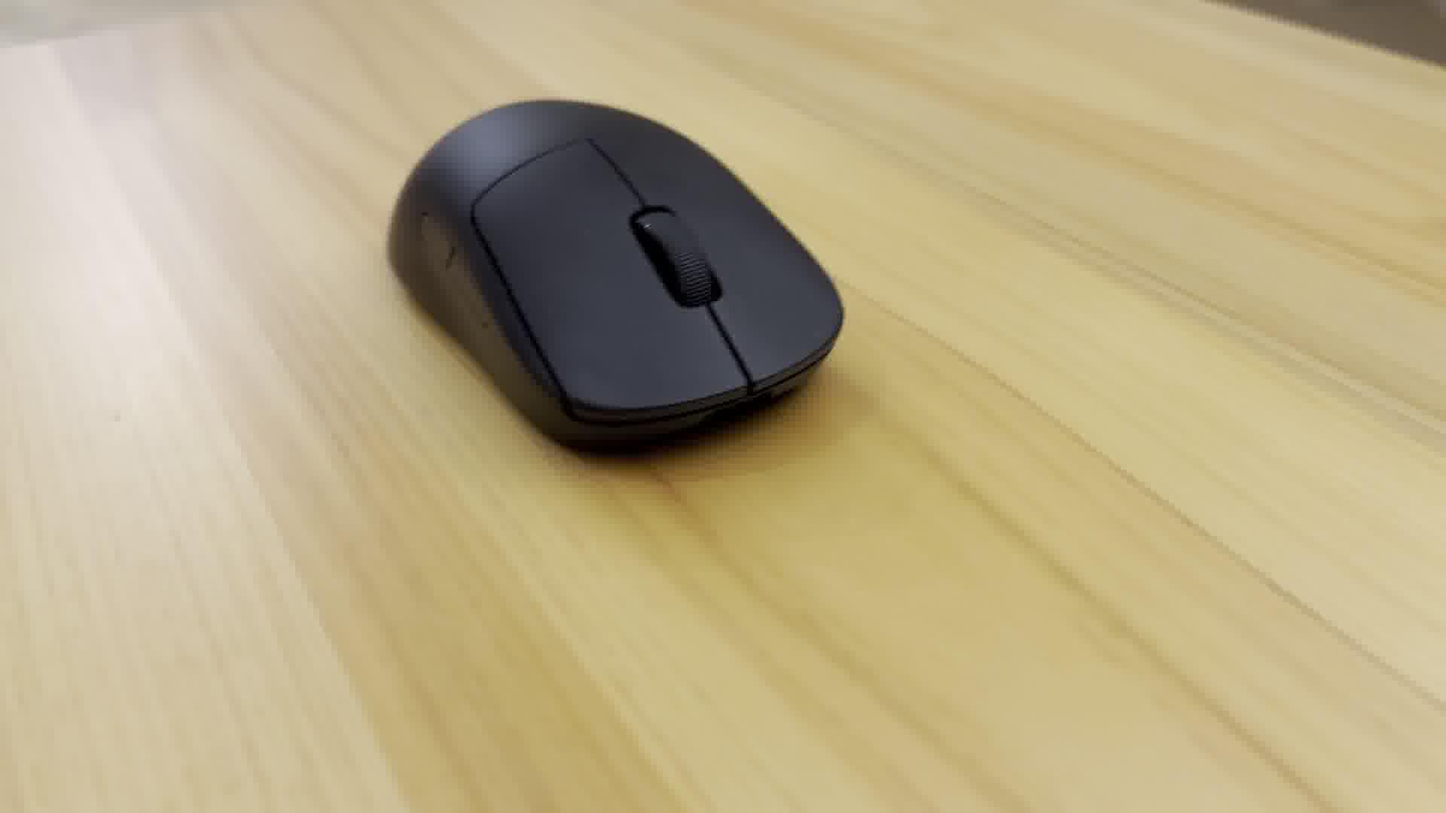mouse: (385, 84, 860, 475)
